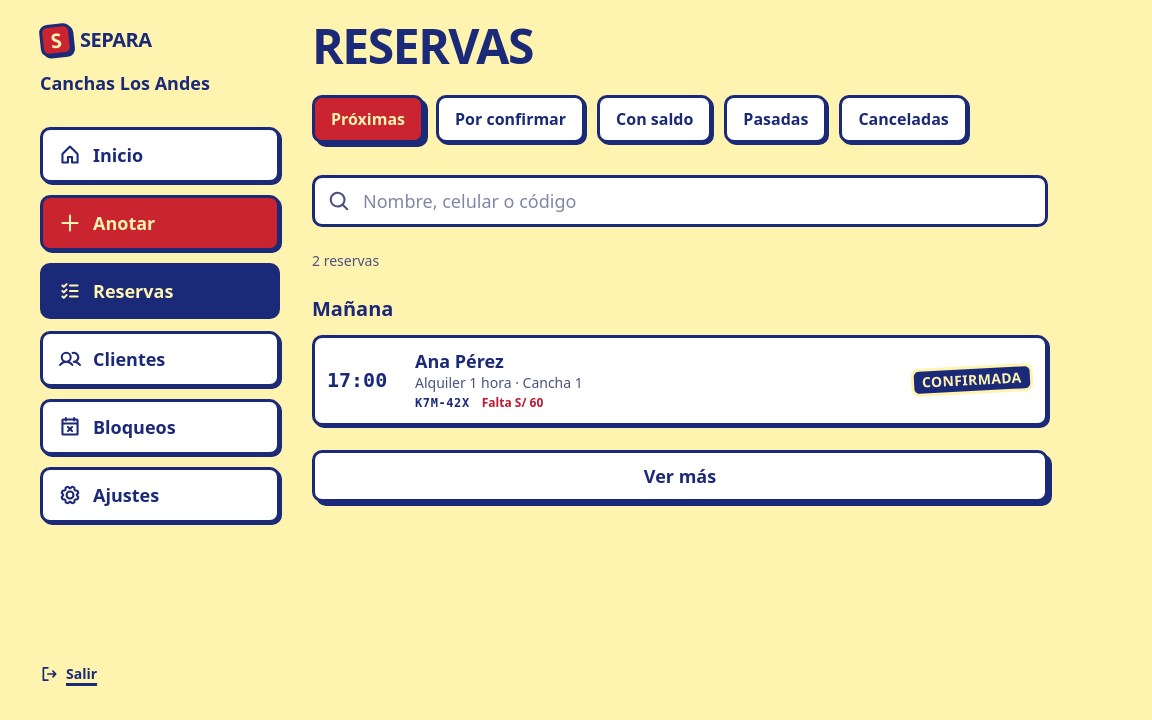
the bookings page › loads more when there are more pages
Expected: the link "Ana Pérez" is shown, [312,335,1048,426]
Click the button "Ver más" at (680,476), box [312,450,1048,502]
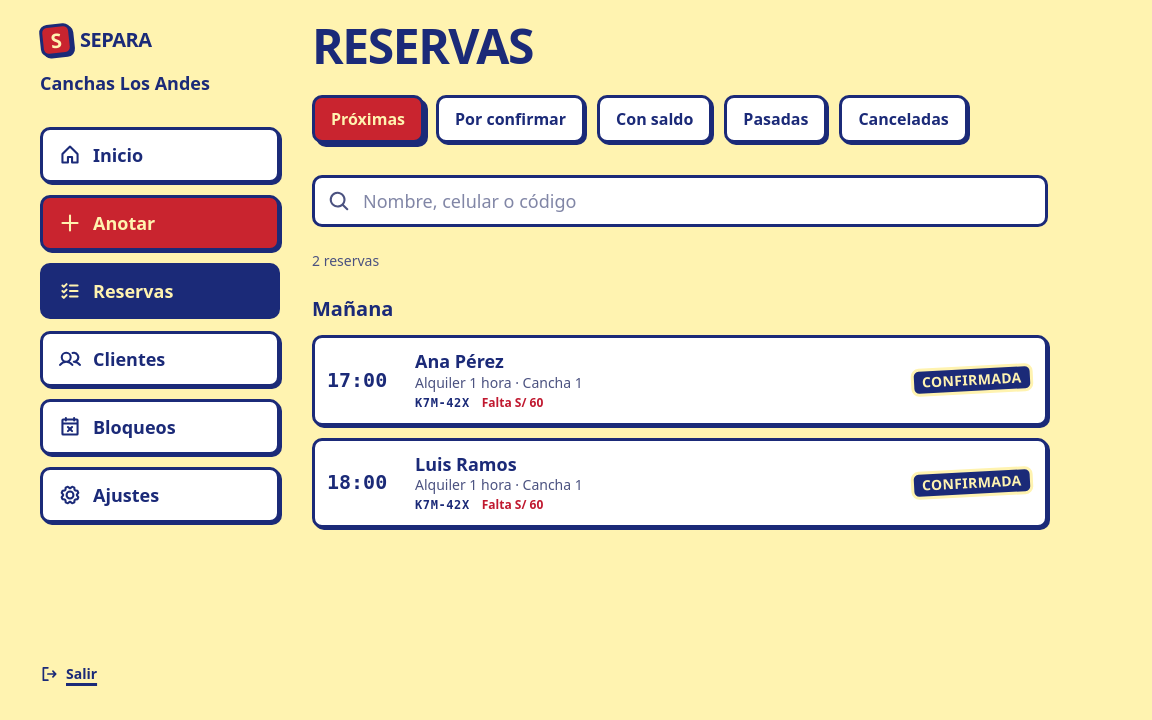
Expected: the link "Luis Ramos" is shown, [312,438,1048,528]
Expected: the button "Ver más" is gone
